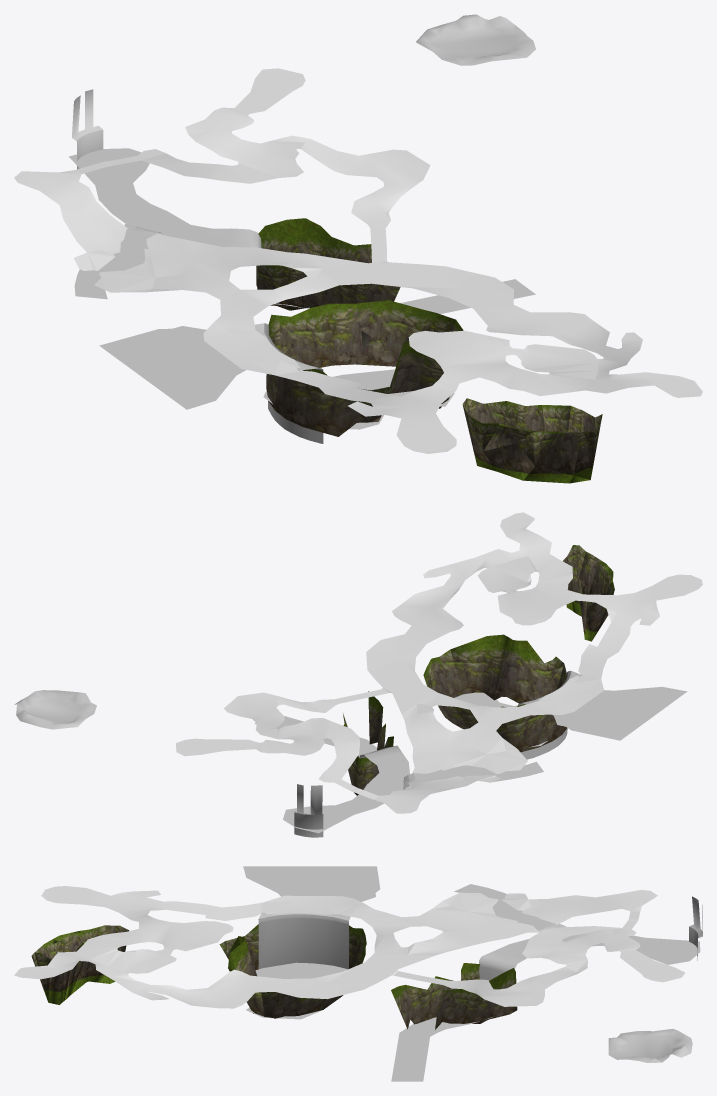
The picture shows the model from 3 angles, top to bottom: view 1: azimuth 30°, elevation 25°; view 2: azimuth 150°, elevation 25°; view 3: azimuth 270°, elevation 25°; orthographic projection. The views are drawn at different scales.
Parts seen in each view (by area): view 1: f_1157_terrain_col, f_1157_terrain_stone, f_1157_water03, f_1157_water01, f_1157_terrain02, f_1157_water02, f_1157_waterfall_b, f_1157_water04; view 2: f_1157_terrain_col, f_1157_terrain_stone, f_1157_water03, f_1157_water01, f_1157_terrain02, f_1157_water02, f_1157_waterfall_b, f_1157_water04; view 3: f_1157_terrain_col, f_1157_terrain_stone, f_1157_waterfall_a, f_1157_water01, f_1157_water03, f_1157_terrain02, f_1157_water04, f_1157_water02, f_1157_waterfall_c, f_1157_waterfall_b.
Boxes of the visible parts, <box> form: f_1157_terrain_col: <box>14,68,702,453</box>; f_1157_terrain_stone: <box>256,218,602,483</box>; f_1157_water03: <box>99,323,322,443</box>; f_1157_water01: <box>69,148,535,314</box>; f_1157_terrain02: <box>416,14,535,65</box>; f_1157_water02: <box>74,224,162,299</box>; f_1157_waterfall_b: <box>72,89,103,169</box>; f_1157_water04: <box>263,369,454,429</box>; f_1157_terrain_col: <box>176,512,702,813</box>; f_1157_terrain_stone: <box>343,545,614,795</box>; f_1157_water03: <box>518,671,687,759</box>; f_1157_water01: <box>254,716,409,833</box>; f_1157_terrain02: <box>14,690,96,729</box>; f_1157_water02: <box>403,761,543,789</box>; f_1157_waterfall_b: <box>293,784,323,837</box>; f_1157_water04: <box>454,692,548,747</box>; f_1157_terrain_col: <box>14,886,685,1008</box>; f_1157_terrain_stone: <box>31,924,517,1029</box>; f_1157_waterfall_a: <box>258,914,348,969</box>; f_1157_water01: <box>391,933,700,1081</box>; f_1157_water03: <box>243,866,380,920</box>; f_1157_terrain02: <box>608,1029,692,1062</box>; f_1157_water04: <box>246,962,347,1019</box>; f_1157_water02: <box>454,884,566,931</box>; f_1157_waterfall_c: <box>479,956,516,980</box>; f_1157_waterfall_b: <box>689,896,702,960</box>.
Bounding box in the file's own units: 296 × 59.38 × 383.
